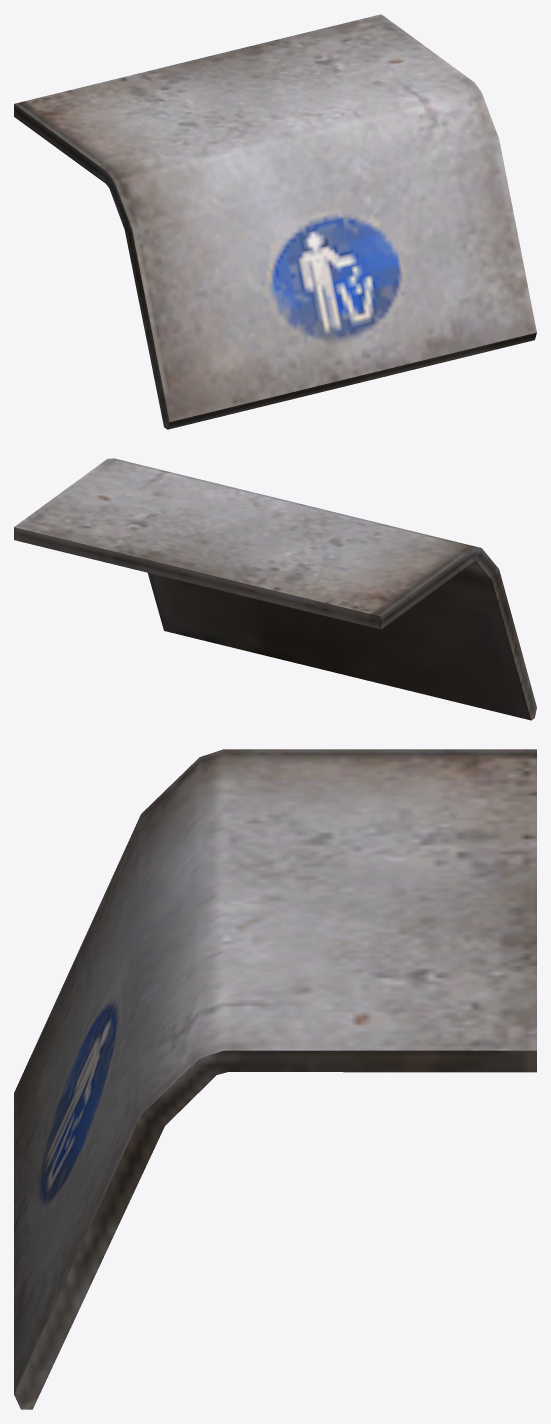
File: trash_can_theta_flap.DAE
3 views of the same model, one above another, from view 1: azimuth 30°, elevation 25°; view 2: azimuth 150°, elevation 25°; view 3: azimuth 270°, elevation 25° (orthographic). The views are drawn at different scales.
Visible parts, largest first — view 1: trash_can_theta_flap; view 2: trash_can_theta_flap; view 3: trash_can_theta_flap.
Part boxes in pixels (x1,y1,x2,y2): trash_can_theta_flap: [14, 14, 536, 429]; trash_can_theta_flap: [14, 458, 536, 720]; trash_can_theta_flap: [14, 749, 536, 1409].
Bounding box in the file's own units: 0.3174 × 0.1763 × 0.2328.
